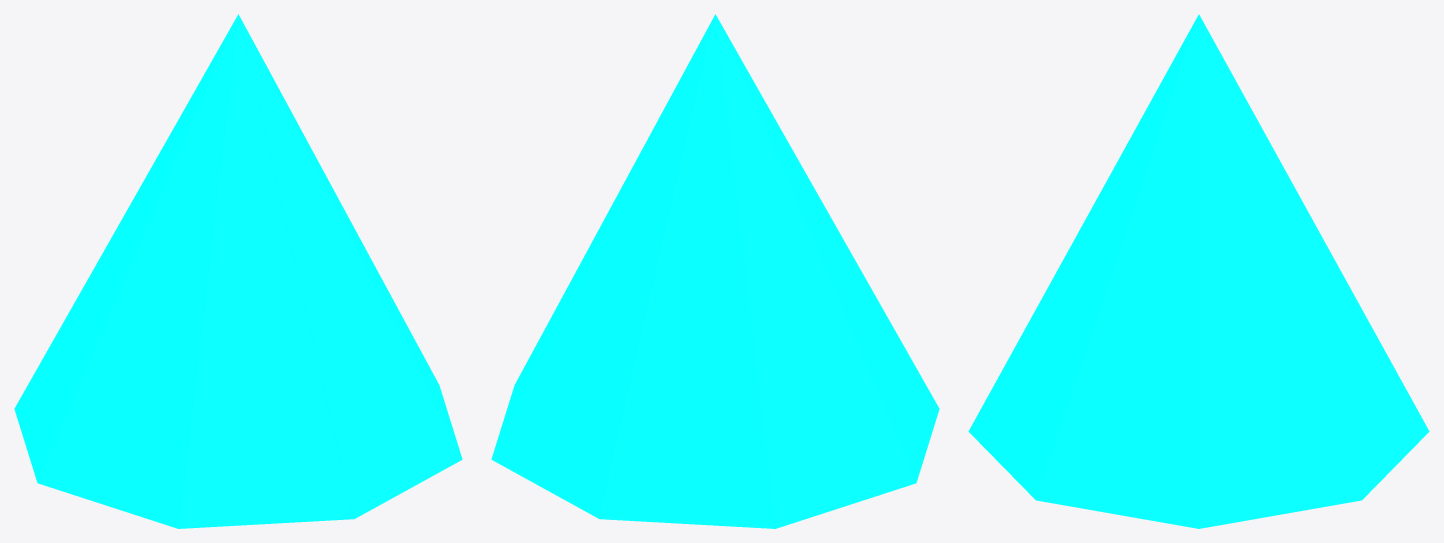
The model's file is Level Two Blue Spike.fbx.
The picture shows the model from 3 angles, left to right: view 1: azimuth 30°, elevation 25°; view 2: azimuth 150°, elevation 25°; view 3: azimuth 270°, elevation 25°; orthographic projection.
Visible parts, largest first — view 1: Cone; view 2: Cone; view 3: Cone.
Part boxes in pixels (x1=…): Cone: x1=14, y1=14, x2=462, y2=528; Cone: x1=491, y1=14, x2=939, y2=528; Cone: x1=968, y1=14, x2=1429, y2=528.
Bounding box in the file's own units: 201 × 201 × 201.
